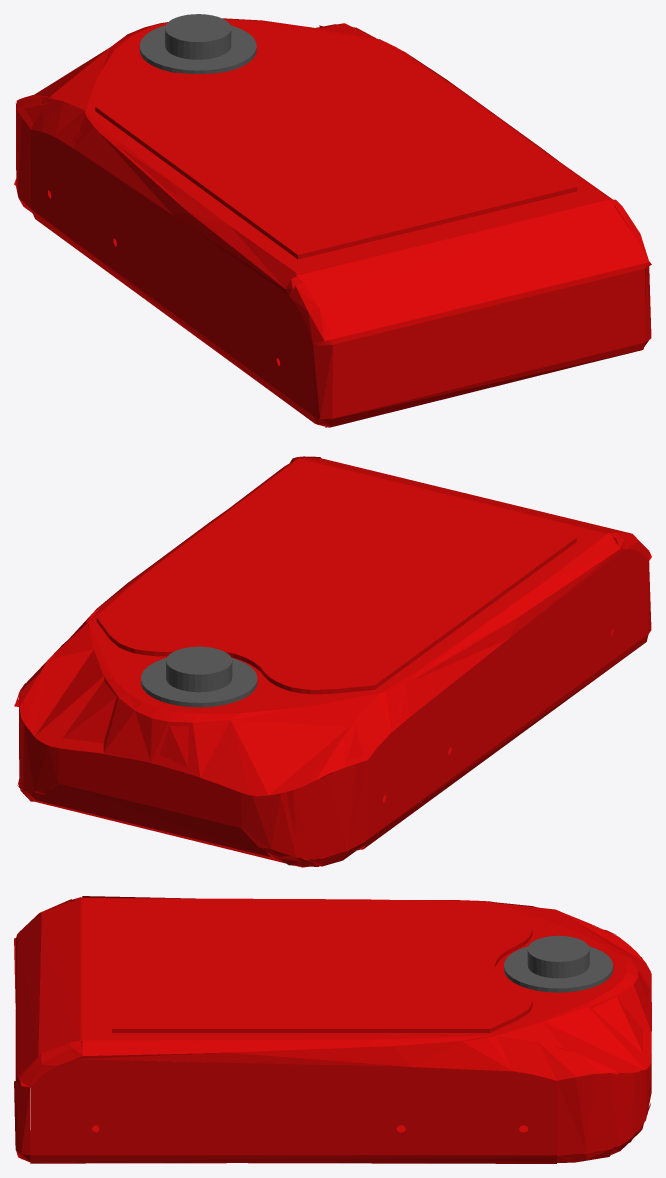
Rendered from tracker_chassis_no_tracks.dae.
The picture shows the model from 3 angles, top to bottom: view 1: azimuth 30°, elevation 25°; view 2: azimuth 150°, elevation 25°; view 3: azimuth 270°, elevation 25°; orthographic projection. The views are drawn at different scales.
Parts seen in each view (by area): view 1: body, body_lid, arm_base_plate; view 2: body, body_lid, arm_base_plate; view 3: body, body_lid, arm_base_plate.
Boxes of the visible parts, x1,y1,x2,y2 form: body: (14,18,651,427); body_lid: (95,34,577,259); arm_base_plate: (139,14,256,73); body: (14,456,651,867); body_lid: (96,470,576,694); arm_base_plate: (141,646,257,707); body: (14,896,651,1163); body_lid: (112,902,532,1032); arm_base_plate: (504,935,613,992).
Bounding box in the file's own units: 40 × 70 × 17.44.
